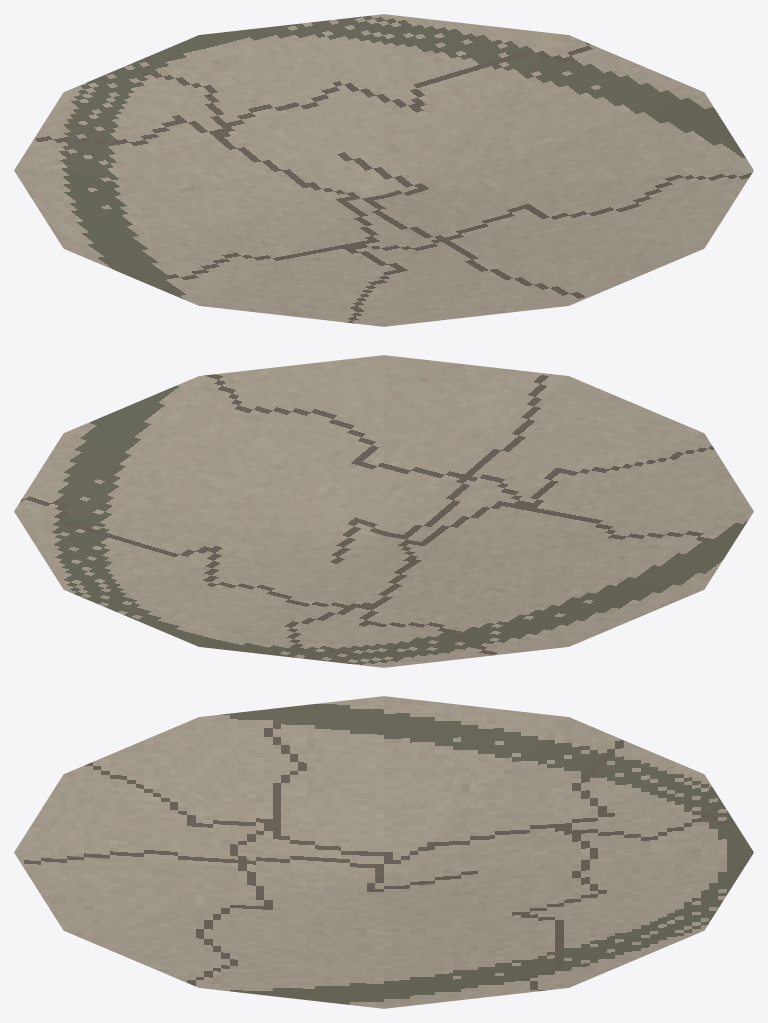
File: MatTro.glb
The picture shows the model from 3 angles, top to bottom: view 1: azimuth 30°, elevation 25°; view 2: azimuth 150°, elevation 25°; view 3: azimuth 270°, elevation 25°; orthographic projection.
Parts seen in each view (by area): view 1: MatTro; view 2: MatTro; view 3: MatTro.
Part boxes in pixels (x1,y1,x2,y2): MatTro: (14,14,753,326); MatTro: (14,355,753,667); MatTro: (14,696,753,1008).
Size of the model in its own units: 0.165 by 0.006 by 0.165.
Materials: 1 (1 with a texture image).
